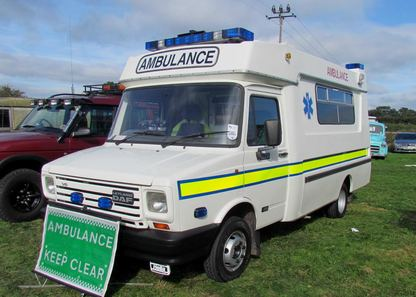ambulance: (40, 27, 372, 283)
car: (391, 133, 416, 153)
